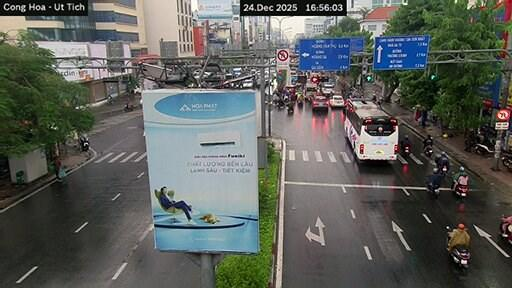motorbike: (450, 246, 470, 267), (499, 216, 511, 243), (475, 141, 494, 154), (426, 182, 439, 199), (452, 184, 468, 197), (501, 151, 511, 171), (79, 134, 89, 151), (424, 145, 433, 157), (402, 145, 410, 157), (286, 101, 293, 113), (124, 103, 134, 111), (440, 165, 447, 176), (277, 100, 285, 109)
